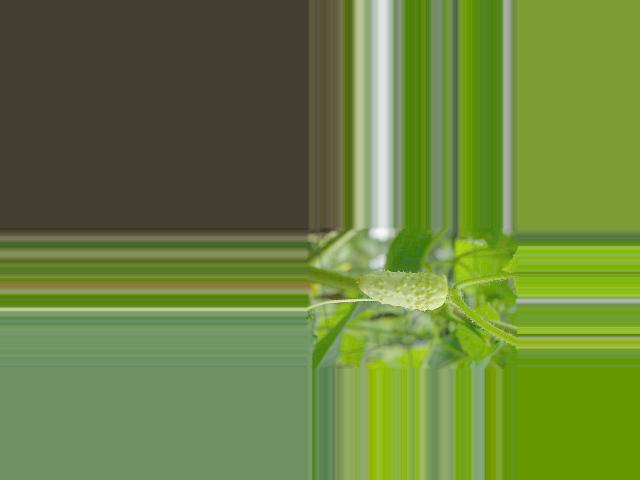cucumber: (355, 271, 448, 311)
